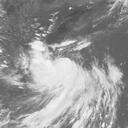cyclone: (22, 41, 115, 110)
